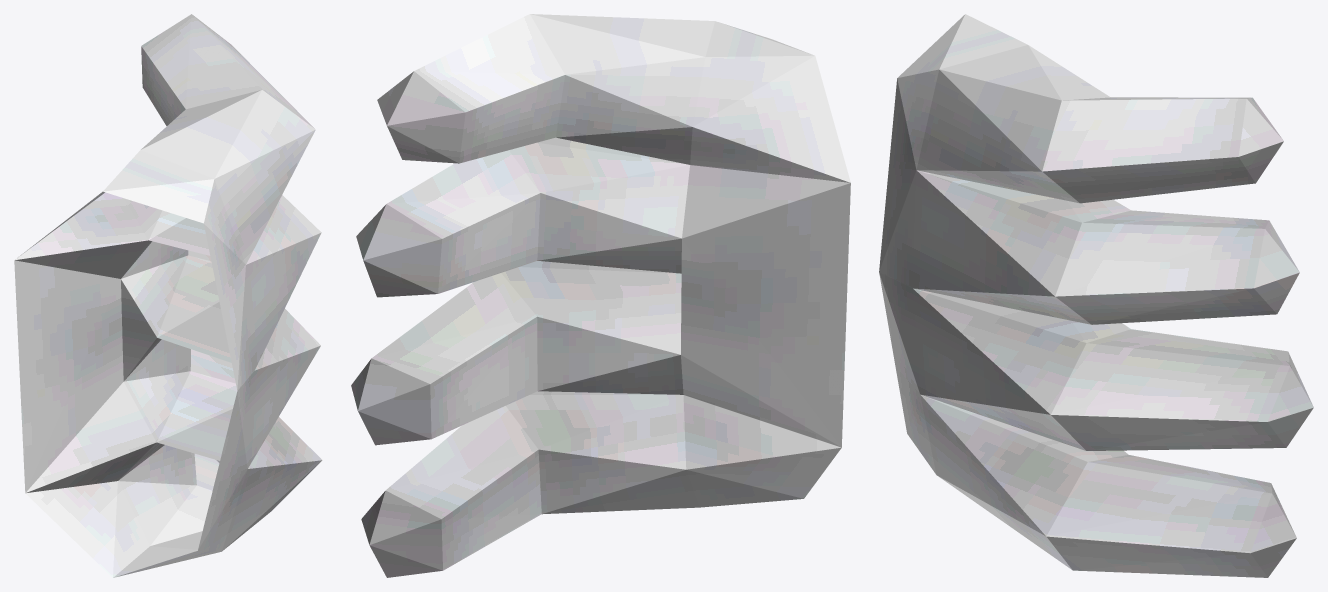
3 renders of one model, left to right at view 1: azimuth 30°, elevation 25°; view 2: azimuth 150°, elevation 25°; view 3: azimuth 270°, elevation 25°, orthographic. The views are drawn at different scales.
Visible parts, largest first — view 1: mesh_D3532C664756AEE3; view 2: mesh_D3532C664756AEE3; view 3: mesh_D3532C664756AEE3.
Part boxes in pixels (bbox=[...]): mesh_D3532C664756AEE3: bbox=[14, 14, 322, 577]; mesh_D3532C664756AEE3: bbox=[351, 14, 850, 577]; mesh_D3532C664756AEE3: bbox=[879, 14, 1313, 577].
Size of the model in its own units: 1.12 by 1.44 by 1.2.
